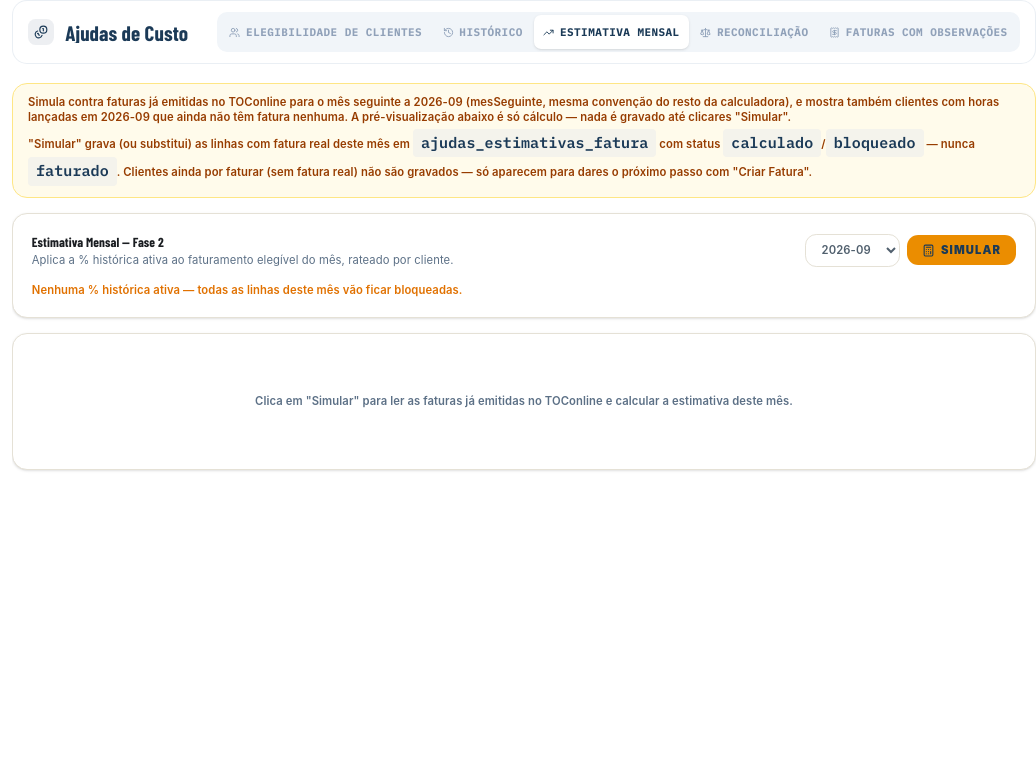
Scenario: EstimativaMensalTab — Fase 2a com faturas reais do TOConline › cliente sem decisão de elegibilidade → linha bloqueada, gravada com status=bloqueado e motivo preenchido (fail-closed)
This screenshot has width=1036, height=768.
What coordinates should you click on to do the following:
click the button "Simular"
I would click on:
 (962, 250)
Its box is top-left (907, 235), bottom-right (1016, 265).
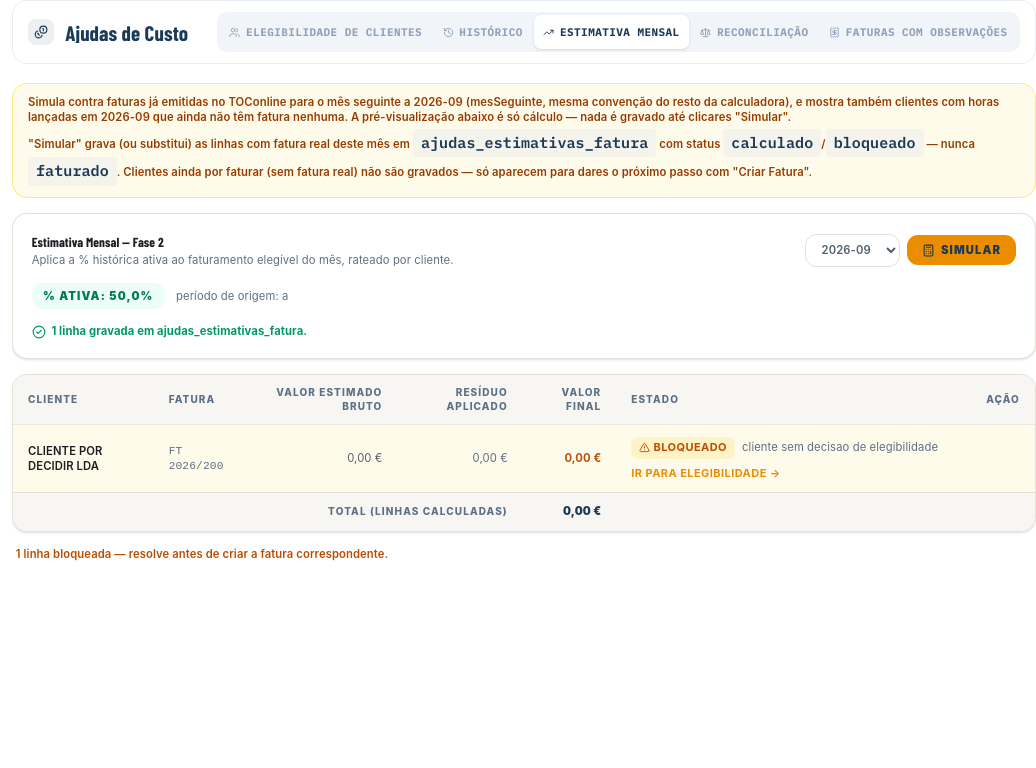
Now the text "1 linha gravada em ajudas_estimativas_fatura." is shown, box top-left (32, 324), bottom-right (307, 339)
Now the text "Bloqueado" is shown, box top-left (631, 436), bottom-right (734, 459)
Now the cell "FT 2026/200" is shown, box top-left (154, 425), bottom-right (251, 493)
